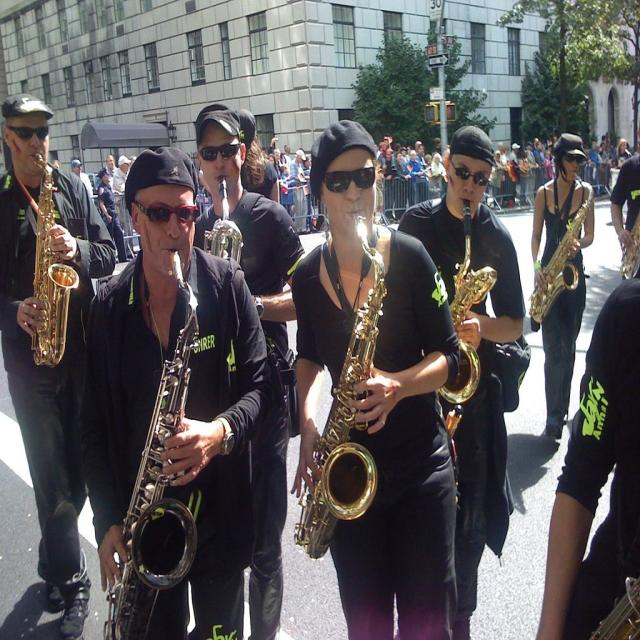saxophone: (100, 248, 216, 640), (291, 212, 388, 562), (436, 197, 496, 400), (30, 154, 80, 368), (528, 178, 596, 324), (617, 202, 640, 281)
